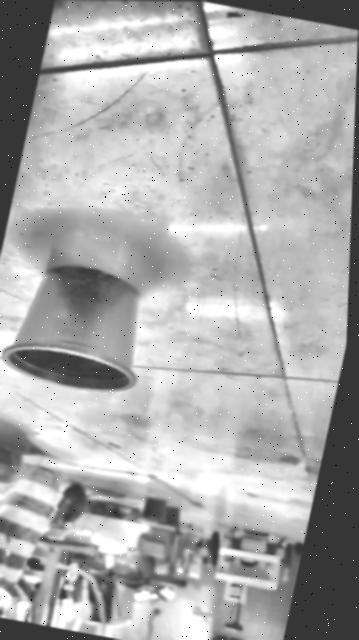pot: (0, 255, 156, 398)
